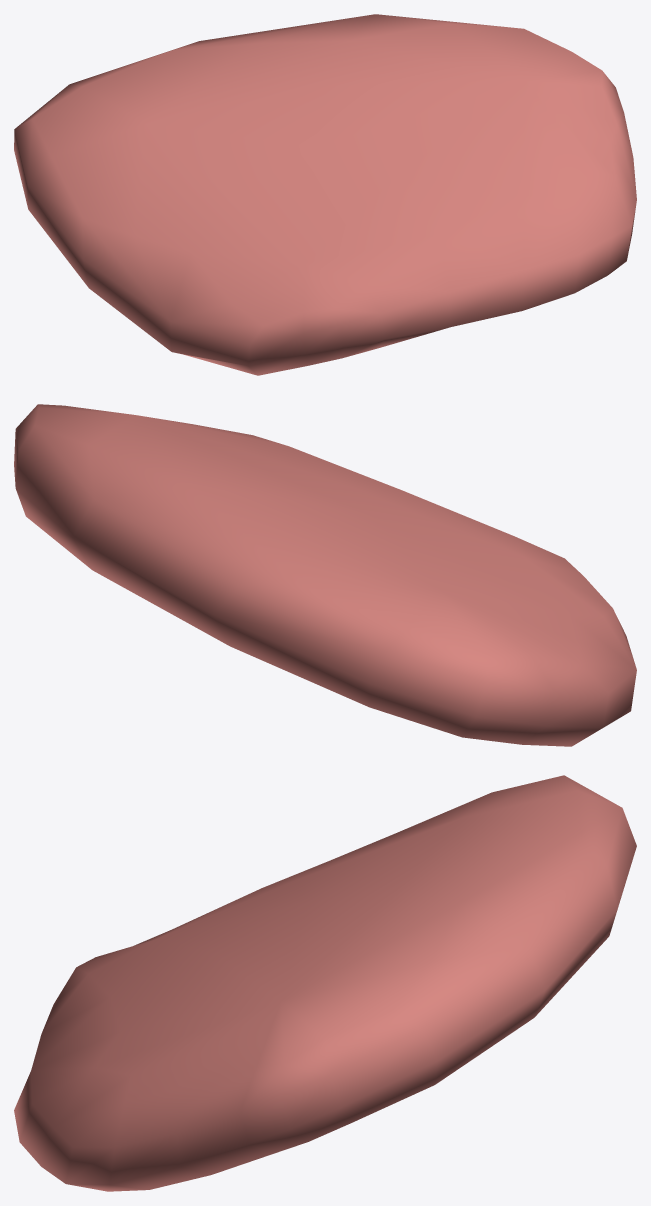
3 renders of one model, top to bottom at view 1: azimuth 30°, elevation 25°; view 2: azimuth 150°, elevation 25°; view 3: azimuth 270°, elevation 25°, orthographic. The views are drawn at different scales.
Parts seen in each view (by area): view 1: ZA_9b8d9b9409769f7a; view 2: ZA_9b8d9b9409769f7a; view 3: ZA_9b8d9b9409769f7a.
Part boxes in pixels (bbox=[...]): ZA_9b8d9b9409769f7a: bbox=[14, 14, 636, 375]; ZA_9b8d9b9409769f7a: bbox=[14, 404, 636, 746]; ZA_9b8d9b9409769f7a: bbox=[14, 775, 636, 1191].
Bounding box in the file's own units: 0.00353 × 0.00135 × 0.00281.
